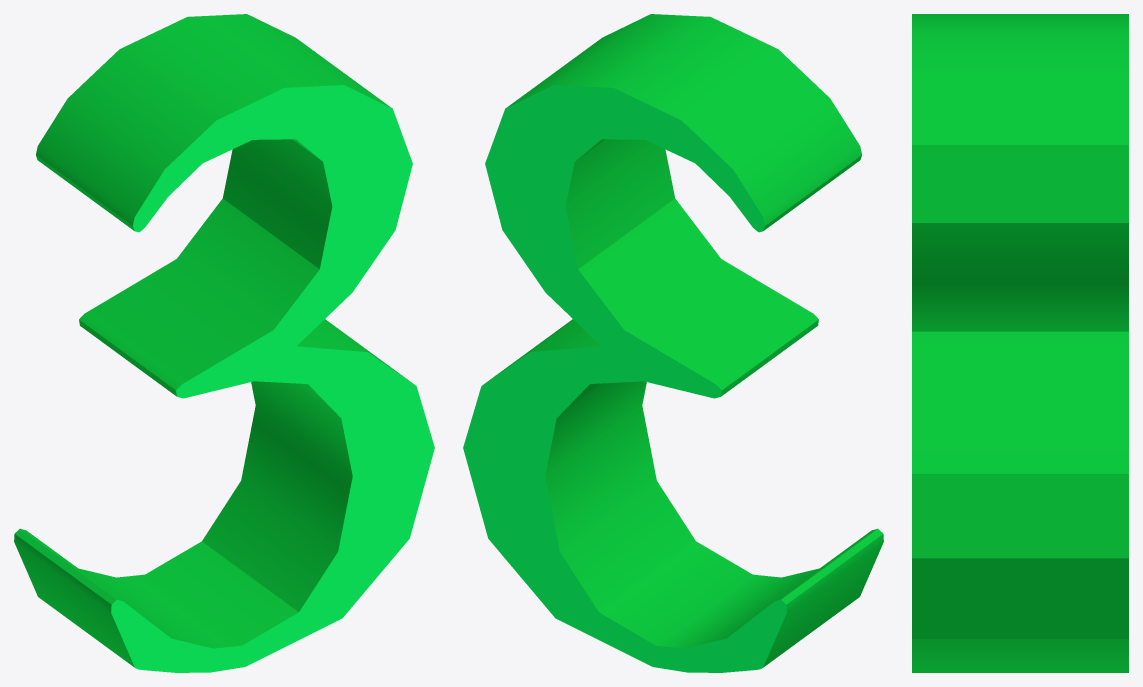
Rendered from d50ad4bb-bebe-4791-8937-2a577ce4bede.glb.
3 renders of one model, left to right at view 1: azimuth 30°, elevation 25°; view 2: azimuth 150°, elevation 25°; view 3: azimuth 270°, elevation 25°, orthographic. The views are drawn at different scales.
Visible parts, largest first — view 1: 3_Soul_Green; view 2: 3_Soul_Green; view 3: 3_Soul_Green.
Part boxes in pixels (x1,y1,x2,y2): 3_Soul_Green: (14,14,434,672); 3_Soul_Green: (463,14,883,672); 3_Soul_Green: (912,14,1128,672).
Size of what is drawn, in the model's own units: 0.0867 by 0.1457 by 0.045.
2 materials, 2 textured.
